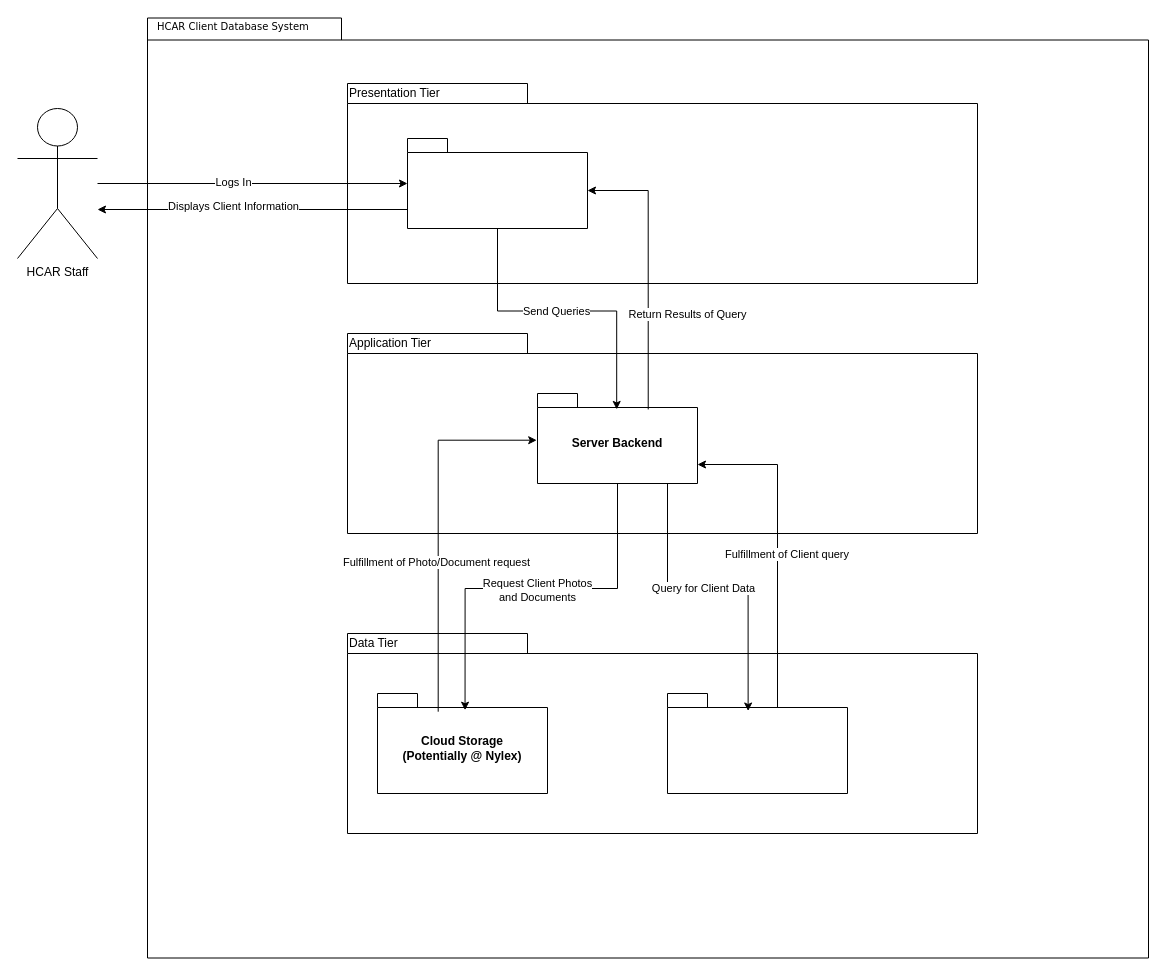
This 1166x975 diagram has some shape labels left out. Each missing label, with the centre of its shape:
Cloud Database: pixel 757 743
User Facing Website: pixel 497 183
